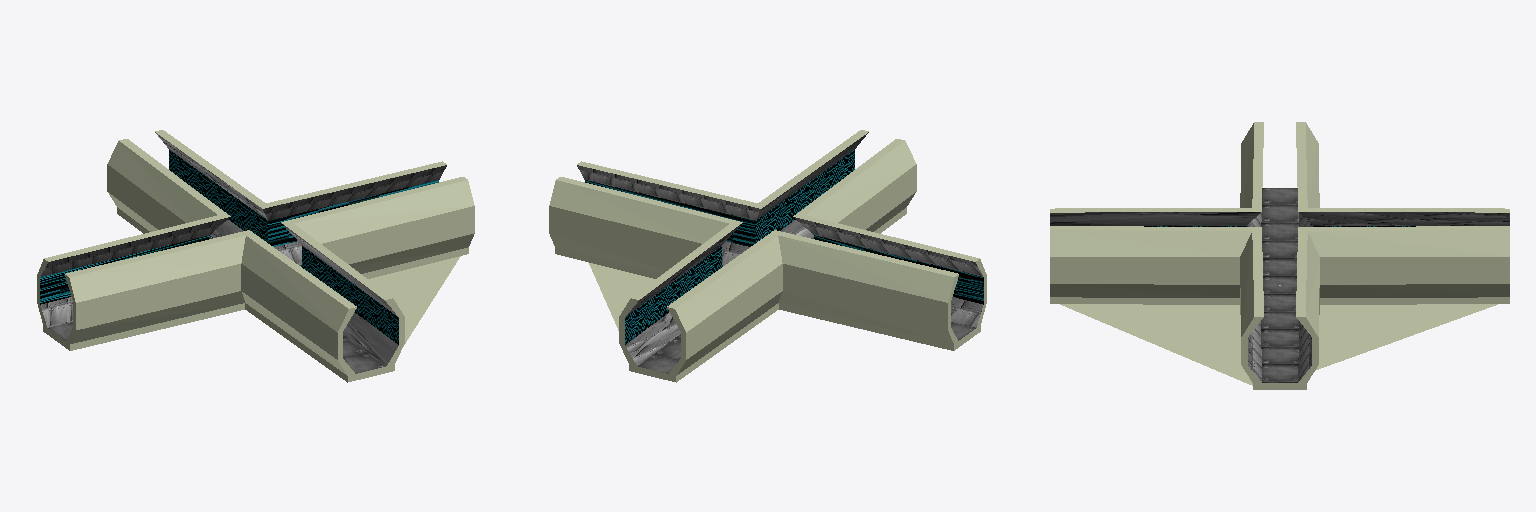
3 renders of one model, left to right at view 1: azimuth 30°, elevation 25°; view 2: azimuth 150°, elevation 25°; view 3: azimuth 270°, elevation 25°, orthographic.
Parts seen in each view (by area): view 1: Cube1; view 2: Cube1; view 3: Cube1.
Boxes of the visible parts, x1=… form: Cube1: x1=37, y1=130, x2=474, y2=382; Cube1: x1=549, y1=130, x2=986, y2=382; Cube1: x1=1050, y1=122, x2=1509, y2=389.
Bounding box in the file's own units: 126 × 22.14 × 126.
4 materials, 3 textured.